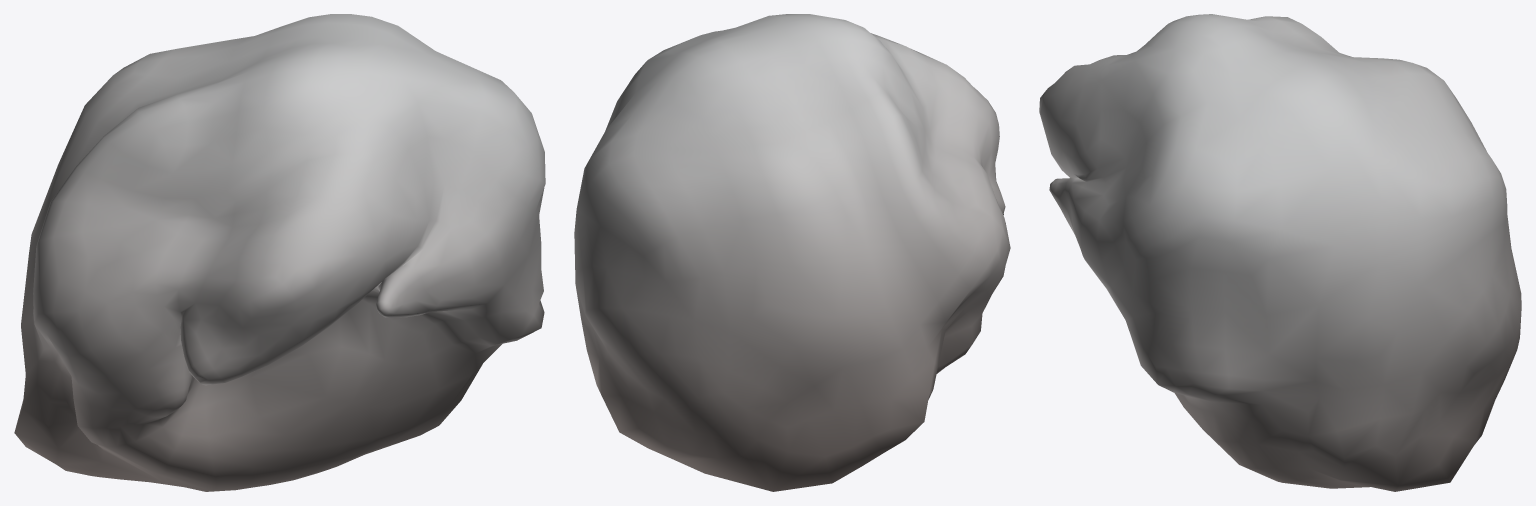
The model's file is Hairstyle_Male_08.glb.
3 views of the same model, side by side, from view 1: azimuth 30°, elevation 25°; view 2: azimuth 150°, elevation 25°; view 3: azimuth 270°, elevation 25° (orthographic). The views are drawn at different scales.
Parts seen in each view (by area): view 1: Hairstyle_Male_08; view 2: Hairstyle_Male_08; view 3: Hairstyle_Male_08.
Part boxes in pixels (left/top/right/bottom): Hairstyle_Male_08: left=14, top=14, right=545, bottom=491; Hairstyle_Male_08: left=574, top=14, right=1010, bottom=491; Hairstyle_Male_08: left=1039, top=14, right=1521, bottom=491.
Size of the model in its own units: 0.6421 by 0.625 by 0.6296.
1 material, 1 textured.
